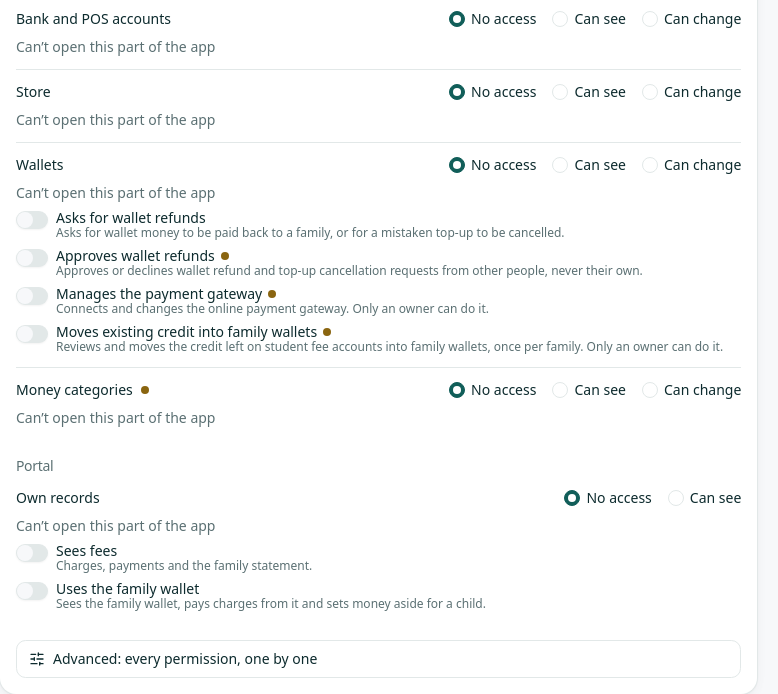
Test: RolePage Advanced grid › filters by words and says when nothing matches
(page scrolled)
Click the button "Advanced: every permission, one by one". click: (185, 658)
box: [17, 641, 740, 677]
(page scrolled)
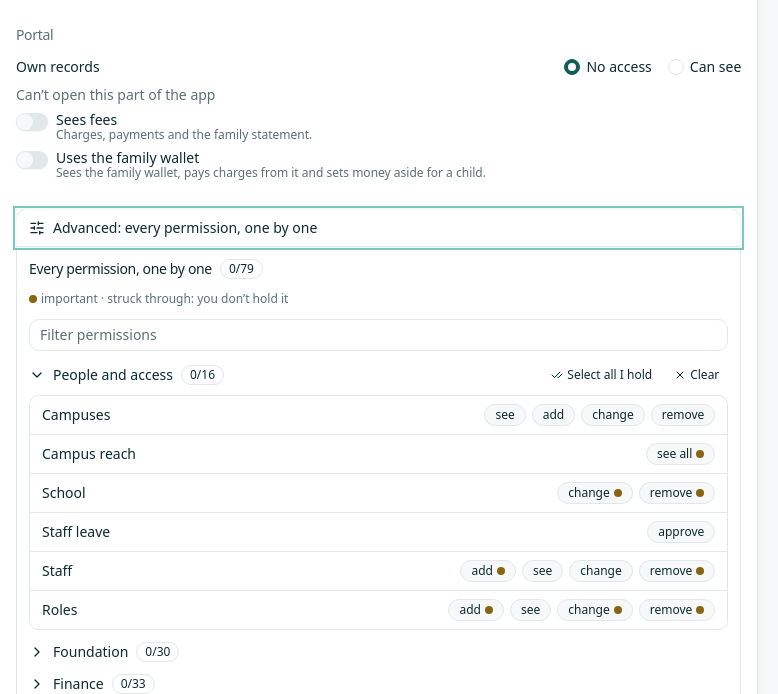
Type "fee" into the field labelled "Filter permissions". click: (379, 335)
box: [29, 319, 728, 351]
(page scrolled)
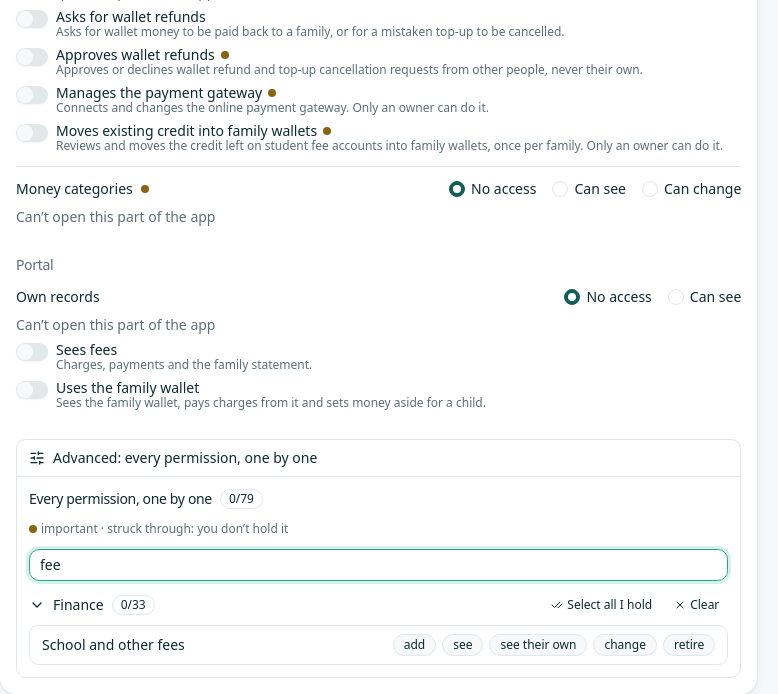
expect the button with aria-label "School and other fees: see" is shown: met, box [442, 634, 484, 656]
Clear the field named "Filter permissions". click: (379, 565)
box: [29, 549, 728, 581]
(page scrolled)
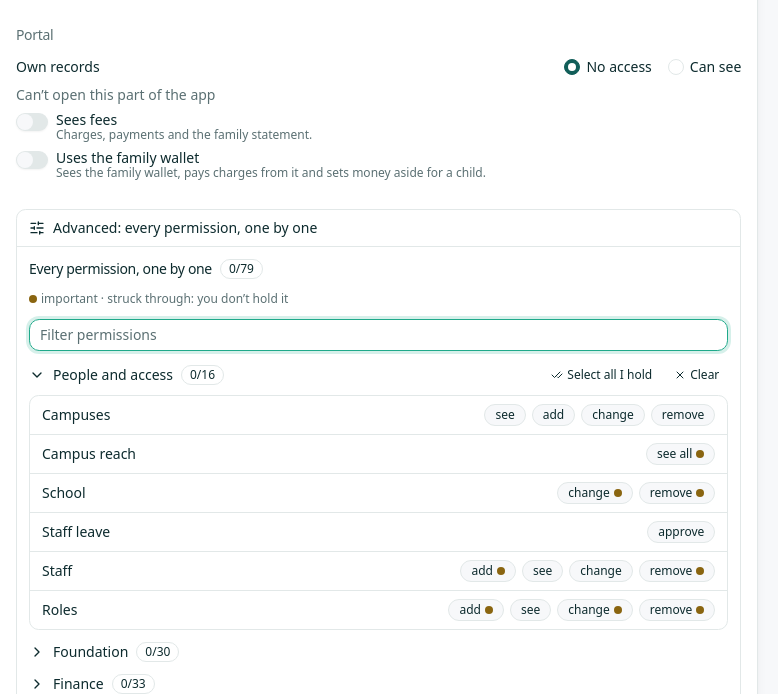
Type "zzz" into the field labelled "Filter permissions". click: (379, 335)
box: [29, 319, 728, 351]
(page scrolled)
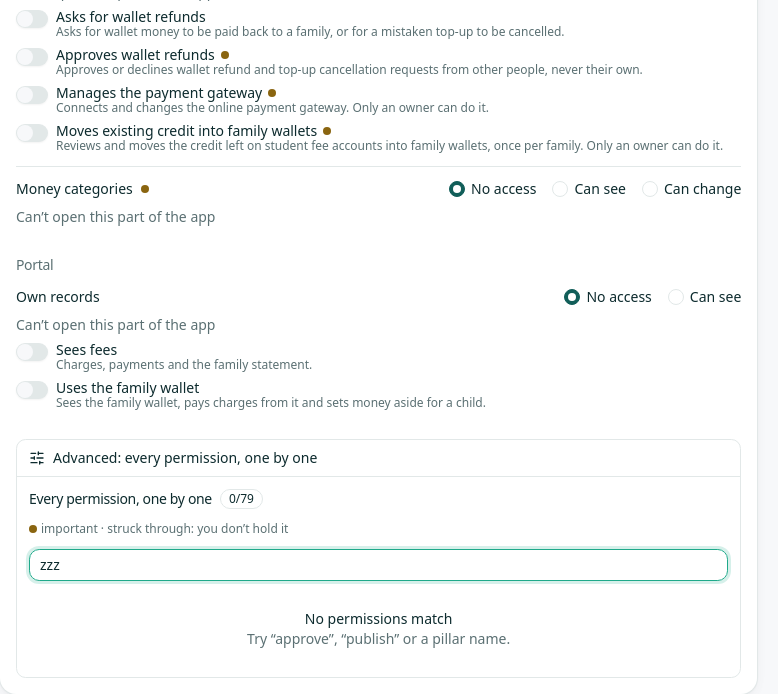
expect the text "No permissions match" is shown: met, box [305, 609, 452, 628]
expect the text "Try “approve”, “publish” or a pillar name." is shown: met, box [247, 629, 510, 648]
